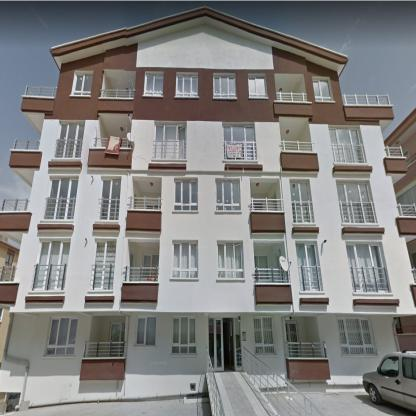door: (288, 322, 300, 357), (229, 318, 235, 370), (275, 251, 281, 282), (130, 251, 134, 281), (272, 194, 276, 210)
window: (346, 243, 388, 291), (34, 240, 70, 289), (336, 182, 377, 224), (43, 177, 79, 219), (337, 318, 376, 355), (329, 127, 365, 163), (296, 242, 322, 291), (45, 318, 78, 356), (223, 124, 256, 160), (154, 122, 186, 159), (93, 240, 116, 289), (170, 240, 198, 278), (55, 122, 85, 157), (217, 240, 244, 278), (97, 178, 121, 220), (171, 316, 196, 356), (290, 181, 313, 223), (209, 317, 224, 370), (174, 177, 197, 211), (254, 315, 274, 353), (216, 179, 240, 210), (134, 316, 156, 347), (312, 76, 334, 102), (108, 322, 124, 356), (214, 73, 236, 97), (72, 71, 93, 96), (396, 180, 416, 206), (176, 74, 198, 96), (144, 71, 163, 96), (248, 73, 267, 98), (142, 253, 159, 278), (234, 317, 242, 370), (255, 256, 269, 280), (4, 251, 13, 266), (410, 251, 416, 268)
